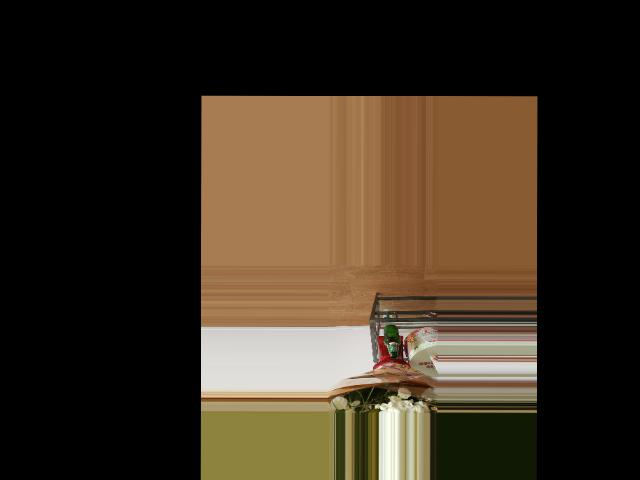beer: (383, 324, 401, 358)
